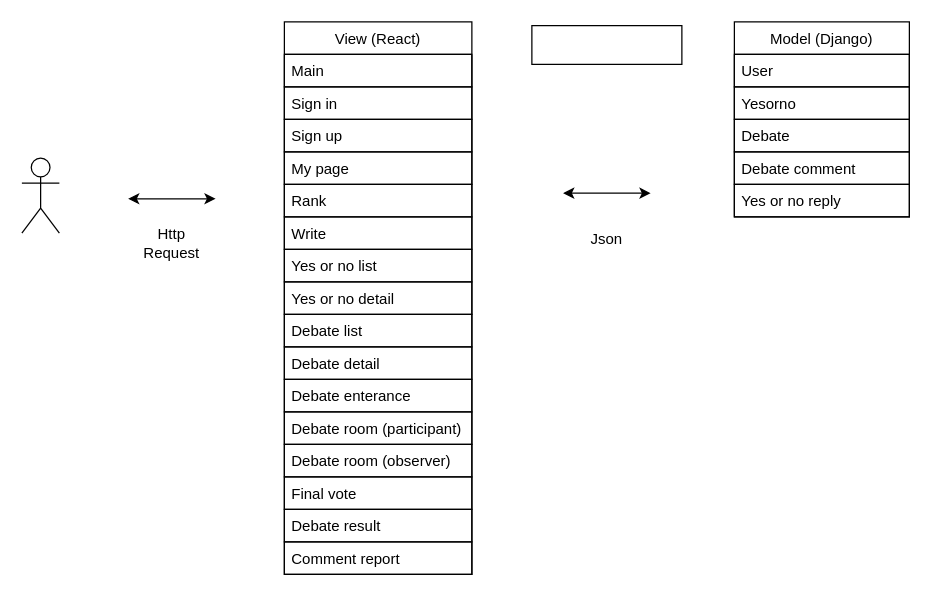
The diagram is 931 pixels wide and 600 high, and some of its shapes have lost their labels. Each missing label, with the centre of its shape:
Client: [40,195]
Controller: [606,44]
